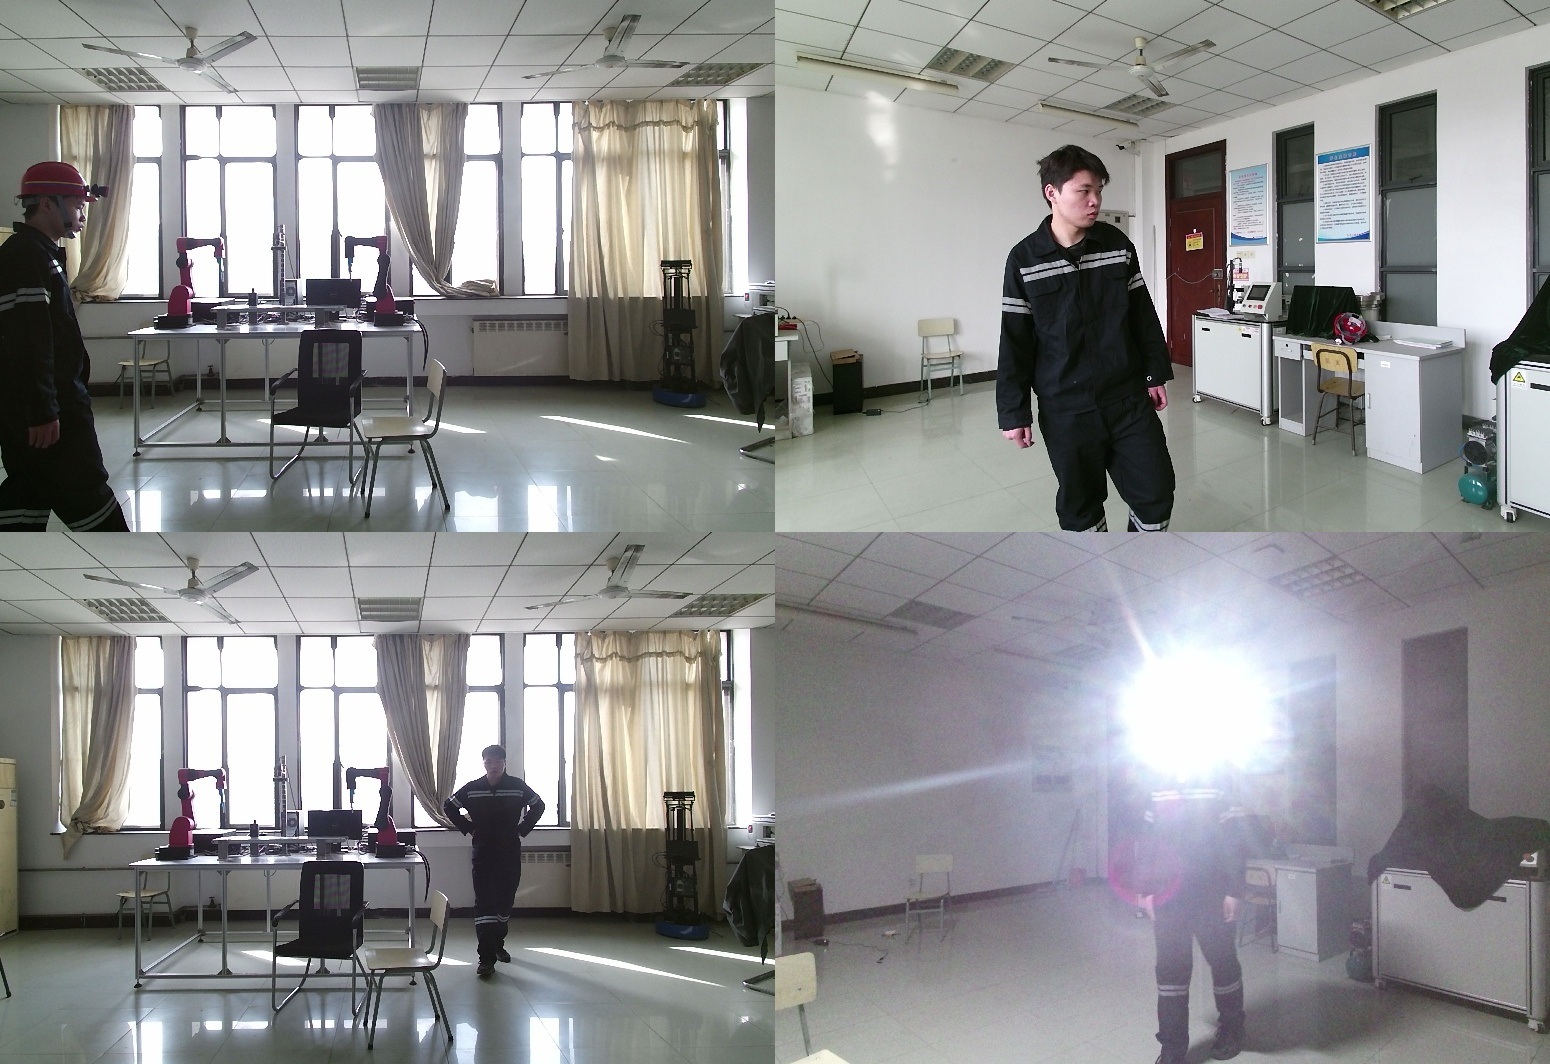person: (997, 143, 1189, 532), (1, 163, 131, 532), (1145, 705, 1274, 1064), (442, 745, 547, 982)
